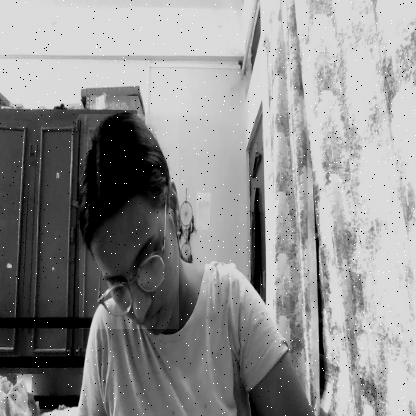Distracted: (79, 114, 179, 329)
